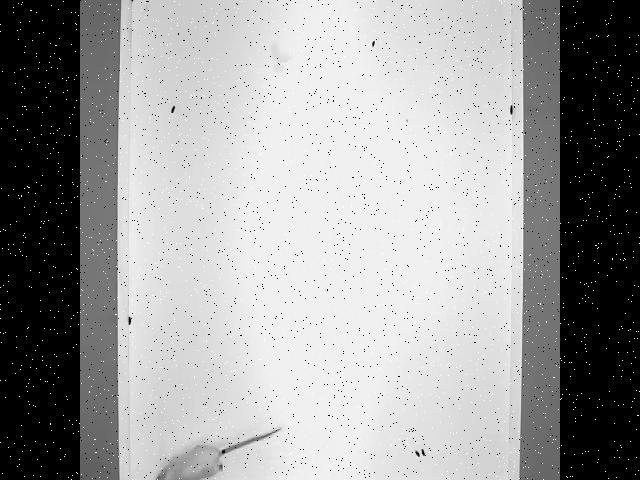Tikus: (153, 424, 281, 480)
